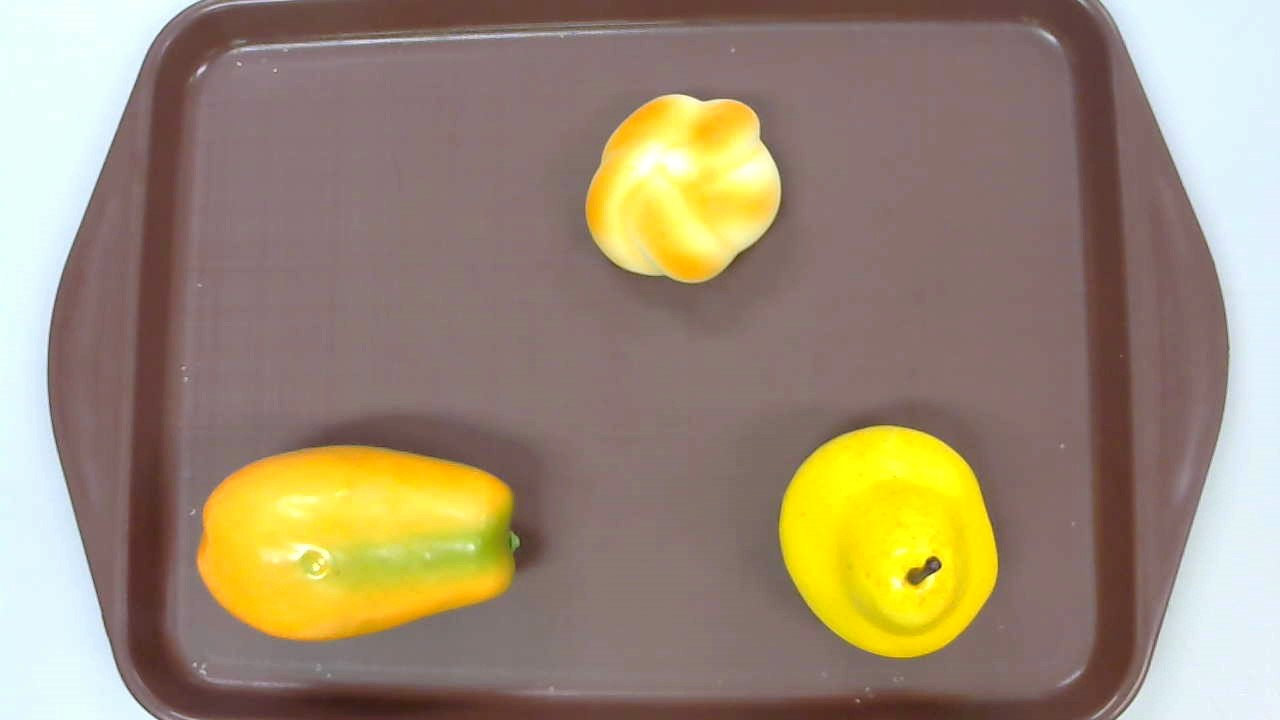papya: (195, 444, 522, 641)
twist bread: (584, 94, 782, 286)
yellow pear: (779, 425, 997, 659)
